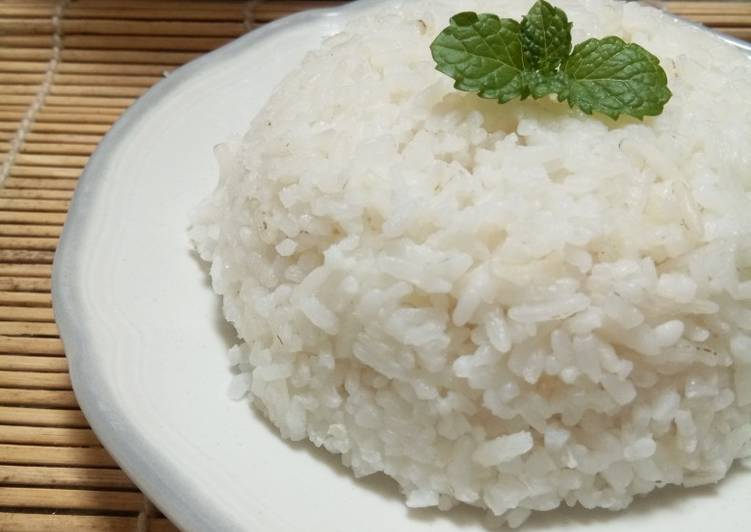Nasi Putih: (137, 30, 739, 521)
